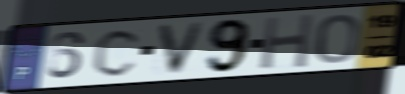6: (47, 30, 87, 82)
9: (204, 17, 254, 75)
C: (91, 26, 144, 78)
H: (258, 12, 316, 71)
O: (314, 13, 361, 66)
V: (155, 20, 208, 77)
